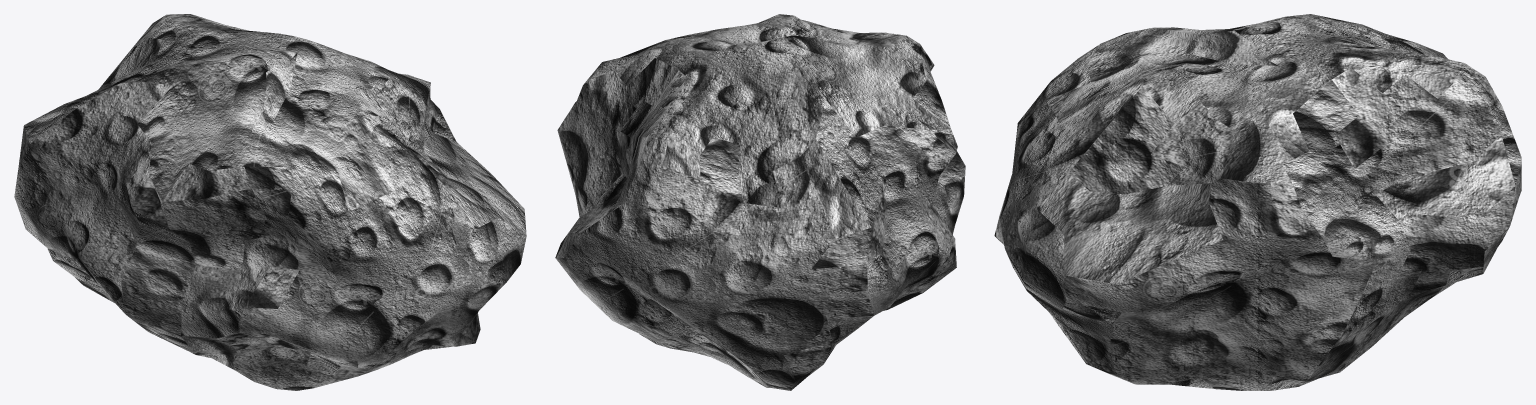
File: asteroide_10.FBX
3 renders of one model, left to right at view 1: azimuth 30°, elevation 25°; view 2: azimuth 150°, elevation 25°; view 3: azimuth 270°, elevation 25°, orthographic. The views are drawn at different scales.
Parts seen in each view (by area): view 1: asteroide_1; view 2: asteroide_1; view 3: asteroide_1.
Part boxes in pixels (<box>): asteroide_1: <box>14,14,526,390</box>; asteroide_1: <box>555,14,965,390</box>; asteroide_1: <box>994,14,1521,390</box>.
Size of the model in its own units: 492 by 381 by 573.
Materials: 1 (1 with a texture image).
